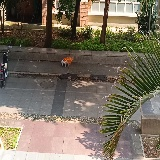fire: (63, 56, 73, 64)
